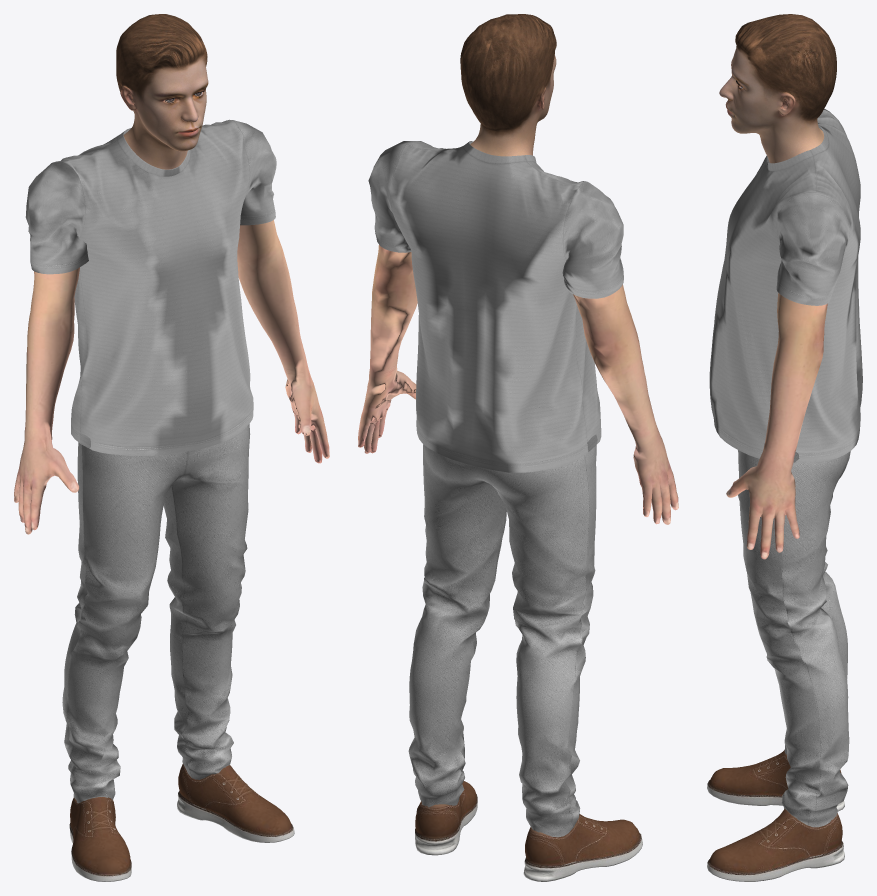
Rendered from votechor-male.glb.
The picture shows the model from 3 angles, left to right: view 1: azimuth 30°, elevation 25°; view 2: azimuth 150°, elevation 25°; view 3: azimuth 270°, elevation 25°; orthographic projection.
Parts seen in each view (by area): view 1: outfit_top, outfit_bottom, AvatarBody, AvatarHead, outfit_shoes; view 2: outfit_top, outfit_bottom, AvatarBody, AvatarHead, outfit_shoes; view 3: outfit_top, outfit_bottom, AvatarHead, AvatarBody, outfit_shoes.
Boxes of the visible parts, <box> form: outfit_top: <box>25,119,276,455</box>; outfit_bottom: <box>62,424,250,803</box>; AvatarBody: <box>14,220,329,534</box>; AvatarHead: <box>116,14,208,169</box>; outfit_shoes: <box>69,764,294,881</box>; outfit_top: <box>368,141,623,472</box>; outfit_bottom: <box>408,444,596,837</box>; AvatarBody: <box>358,245,678,524</box>; AvatarHead: <box>460,14,556,156</box>; outfit_shoes: <box>415,781,642,881</box>; outfit_top: <box>709,109,862,462</box>; outfit_bottom: <box>738,450,850,827</box>; AvatarHead: <box>719,14,836,163</box>; AvatarBody: <box>726,293,827,559</box>; outfit_shoes: <box>707,750,844,881</box>.
Size of the model in its own units: 0.747 by 1.96 by 0.3395.
Materials: 10 (9 with a texture image).
